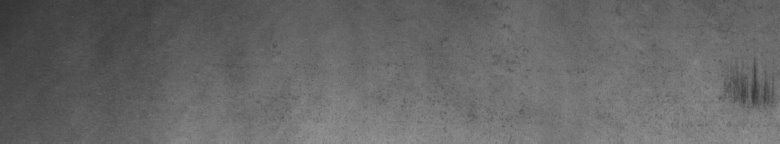ka: (712, 59, 776, 108)
